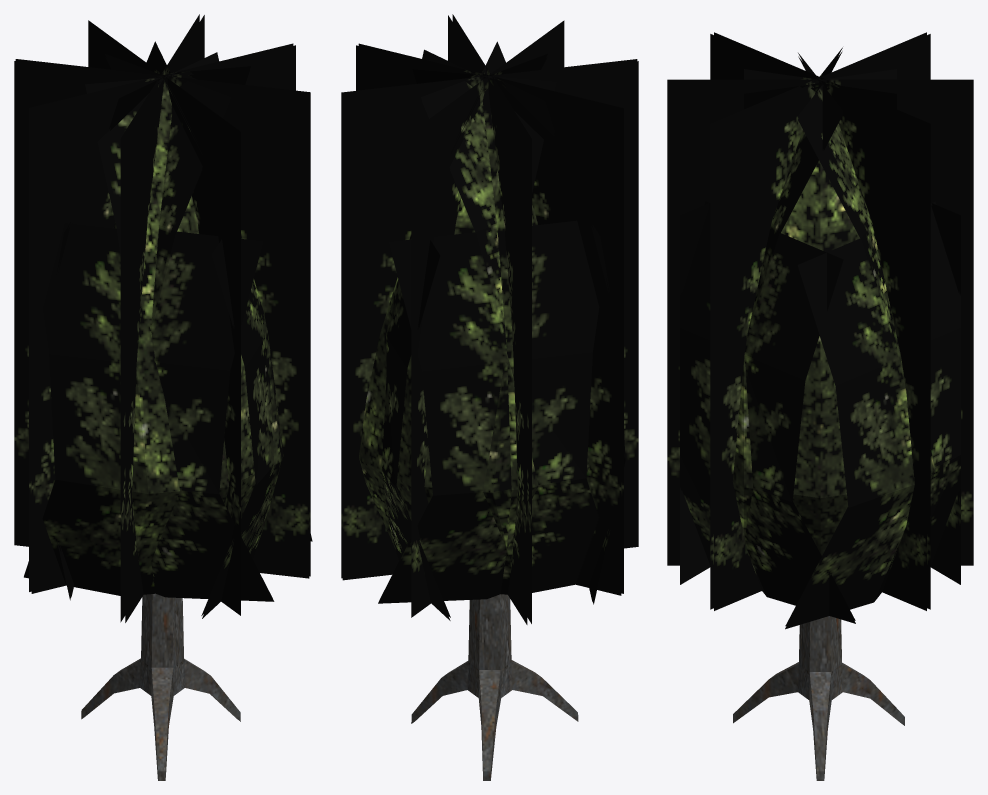
Rendered from tree07.gltf.
3 renders of one model, left to right at view 1: azimuth 30°, elevation 25°; view 2: azimuth 150°, elevation 25°; view 3: azimuth 270°, elevation 25°, orthographic.
Visible parts, largest first — view 1: tree07_top, tree07; view 2: tree07_top, tree07; view 3: tree07_top, tree07.
Boxes of the visible parts, bbox=[...] form: tree07_top: bbox=[14, 14, 312, 622]; tree07: bbox=[81, 593, 240, 780]; tree07_top: bbox=[341, 14, 638, 624]; tree07: bbox=[411, 594, 578, 780]; tree07_top: bbox=[667, 32, 973, 629]; tree07: bbox=[733, 616, 904, 780].
Size of the model in its own units: 2.4 by 5.75 by 2.4.
1 material, 1 textured.
